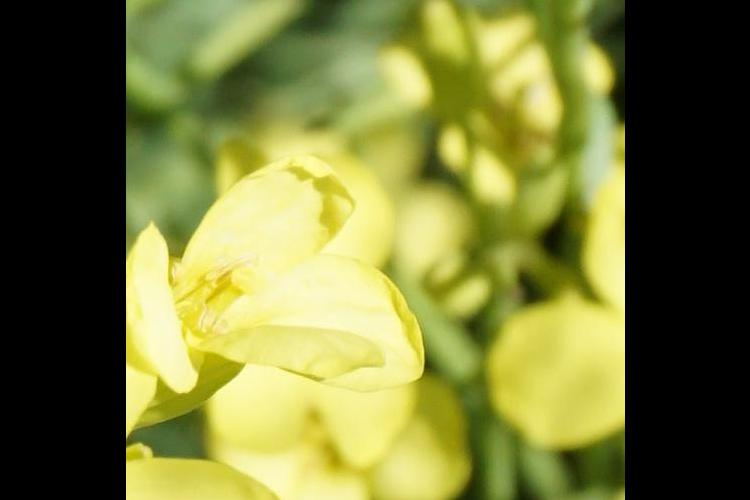yellow: (127, 179, 423, 500)
